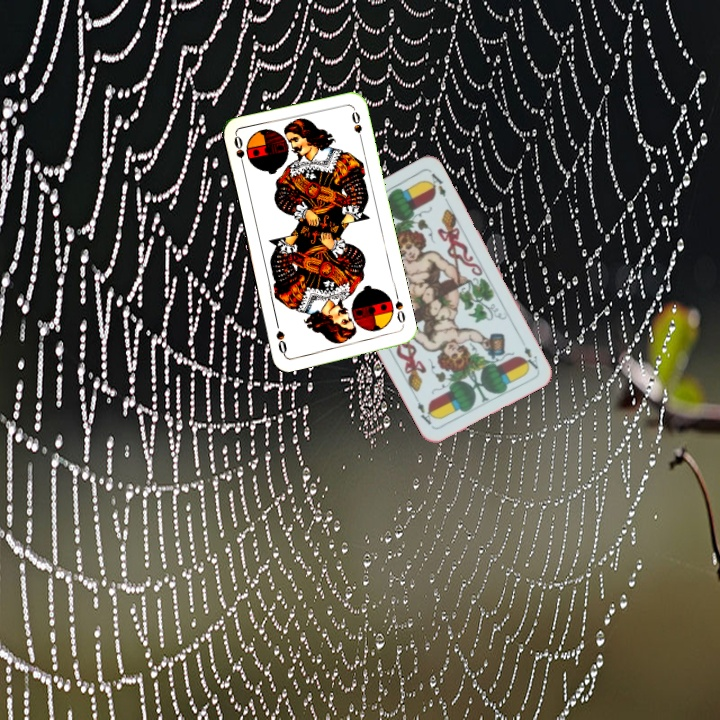EA: (520, 343, 541, 372)
SO: (230, 132, 247, 172), (391, 290, 408, 326)
